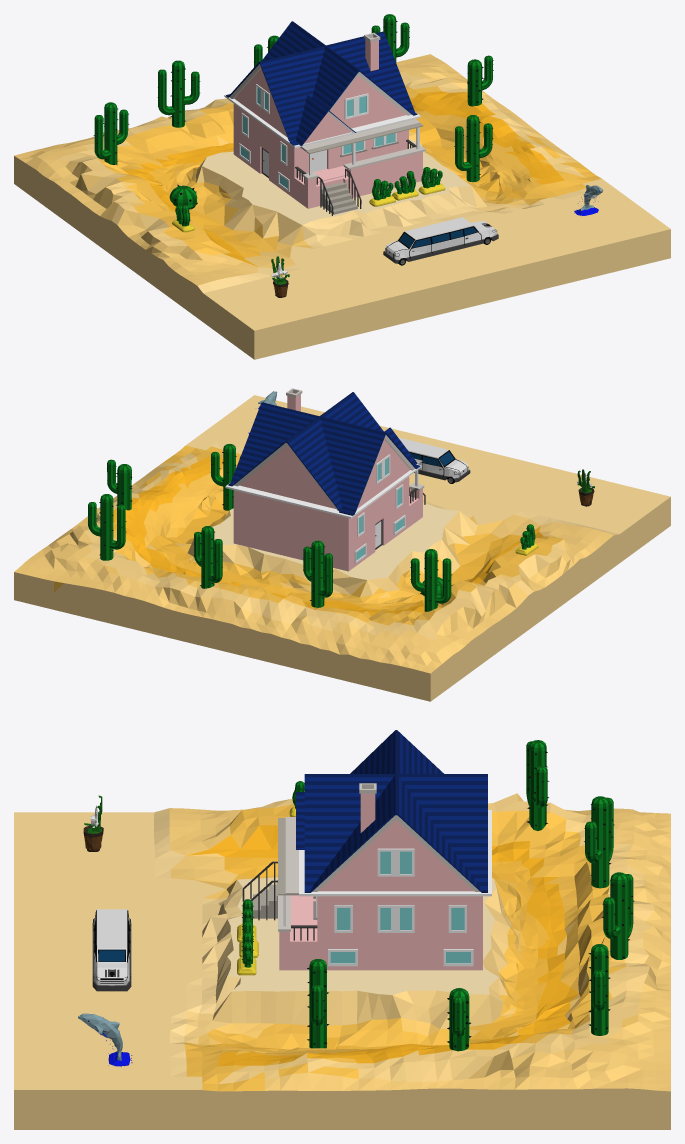
3 renders of one model, top to bottom at view 1: azimuth 30°, elevation 25°; view 2: azimuth 150°, elevation 25°; view 3: azimuth 270°, elevation 25°, orthographic. The views are drawn at different scales.
Parts seen in each view (by area): view 1: Cube.001, Cube.313, VEHICLES_LIMOUSINE, Cylinder.037, Cylinder.044, Cylinder.045, Cylinder.038, Cylinder.042, Cylinder.039, Cylinder.041, OBJRANDOM_MONJA BLANCA, Sphere.023 (+1 smaller); view 2: Cube.001, Cube.313, VEHICLES_LIMOUSINE, Cylinder.042, Cylinder.045, Cylinder.044, Cylinder.043, Cylinder.037, Cylinder.038; view 3: Cube.001, Cube.313, VEHICLES_LIMOUSINE, Cylinder.043, Cylinder.044, Cylinder.045, Cylinder.042, Cylinder.037, Cylinder.038, ANIMAL_DELFIN, OBJRANDOM_MONJA BLANCA, Cylinder.041.
Part boxes in pixels (x1=…): Cube.001: x1=14, y1=54, x2=670, y2=359; Cube.313: x1=224, y1=21, x2=425, y2=215; VEHICLES_LIMOUSINE: x1=383, y1=217, x2=498, y2=265; Cylinder.037: x1=454, y1=115, x2=493, y2=182; Cylinder.044: x1=157, y1=60, x2=200, y2=127; Cylinder.045: x1=93, y1=102, x2=129, y2=164; Cylinder.038: x1=467, y1=55, x2=493, y2=106; Cylinder.042: x1=371, y1=14, x2=409, y2=62; Cylinder.039: x1=369, y1=179, x2=395, y2=206; Cylinder.041: x1=418, y1=167, x2=445, y2=194; OBJRANDOM_MONJA BLANCA: x1=271, y1=256, x2=289, y2=297; Sphere.023: x1=169, y1=184, x2=197, y2=209; Cube.001: x1=14, y1=395, x2=670, y2=701; Cube.313: x1=225, y1=388, x2=425, y2=571; VEHICLES_LIMOUSINE: x1=398, y1=437, x2=470, y2=483; Cylinder.042: x1=88, y1=494, x2=126, y2=560; Cylinder.045: x1=410, y1=549, x2=452, y2=611; Cylinder.044: x1=303, y1=540, x2=333, y2=607; Cylinder.043: x1=193, y1=526, x2=222, y2=588; Cylinder.037: x1=211, y1=444, x2=240, y2=510; Cylinder.038: x1=107, y1=459, x2=131, y2=510; Cube.001: x1=14, y1=793, x2=670, y2=1129; Cube.313: x1=242, y1=730, x2=491, y2=970; VEHICLES_LIMOUSINE: x1=92, y1=909, x2=131, y2=991; Cylinder.043: x1=602, y1=872, x2=634, y2=959; Cylinder.044: x1=584, y1=796, x2=614, y2=888; Cylinder.045: x1=526, y1=740, x2=549, y2=830; Cylinder.042: x1=588, y1=944, x2=610, y2=1035; Cylinder.037: x1=307, y1=959, x2=329, y2=1048; Cylinder.038: x1=447, y1=988, x2=471, y2=1051; ANIMAL_DELFIN: x1=78, y1=1013, x2=132, y2=1066; OBJRANDOM_MONJA BLANCA: x1=83, y1=795, x2=103, y2=851; Cylinder.041: x1=237, y1=932, x2=256, y2=975.
Bounding box in the file's own units: 4002 × 1577 × 4001.
34 materials, 3 textured.
